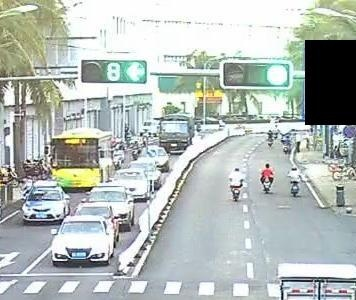green: (265, 63, 289, 87)
greenleft: (125, 62, 146, 83)
greentime: (105, 62, 124, 81)
